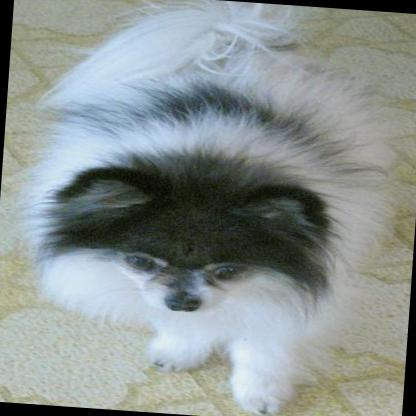Pomeranian: (8, 0, 393, 416)
